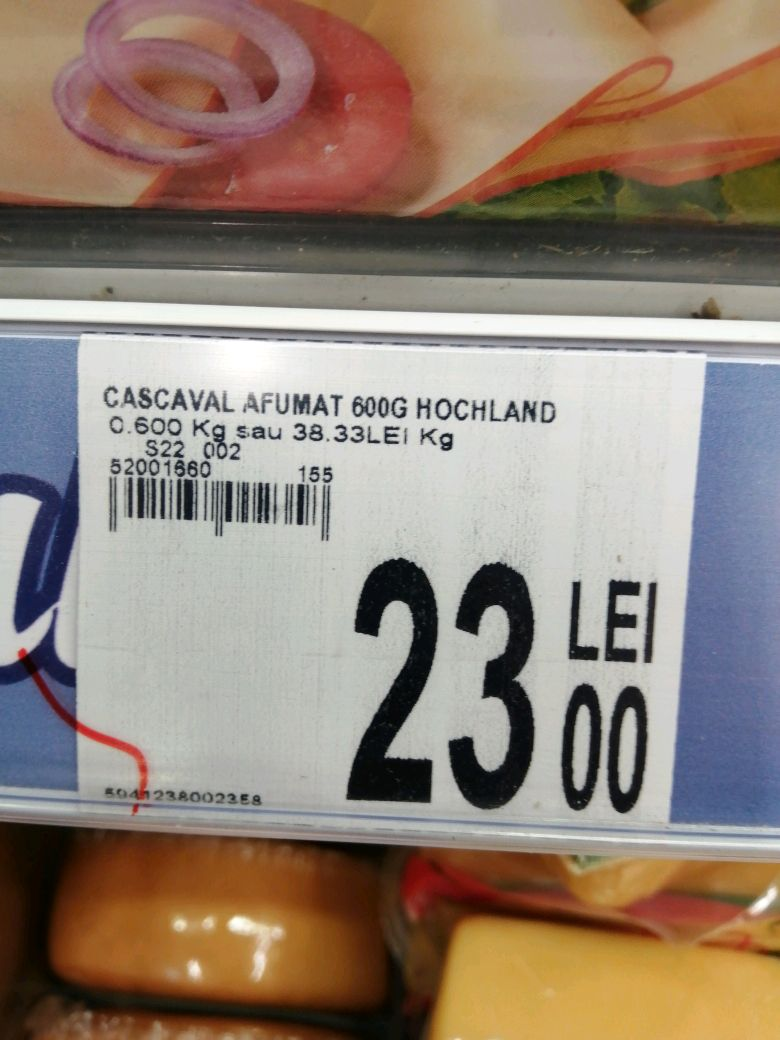price_bani: (553, 674, 655, 815)
price_lei: (341, 546, 546, 815)
price_tag: (70, 326, 716, 840)
product_id: (96, 775, 270, 811)
product_name: (87, 380, 571, 427)
